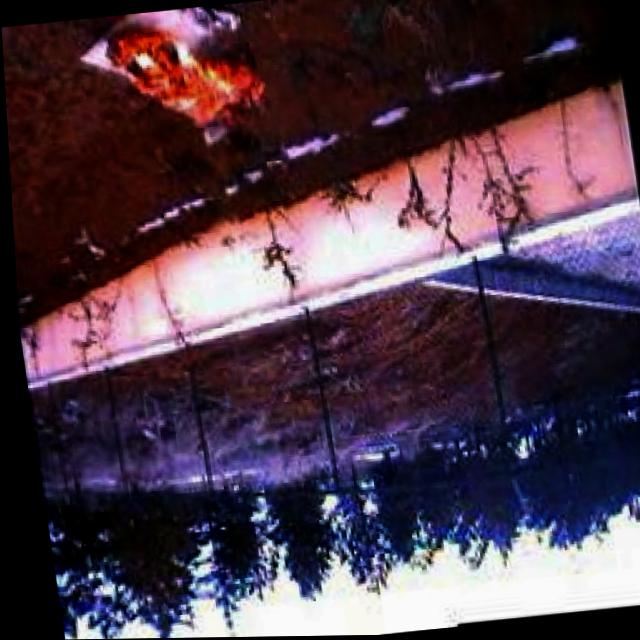Fire: (93, 11, 273, 147)
